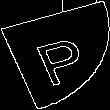P_N: (22, 25, 88, 85)
